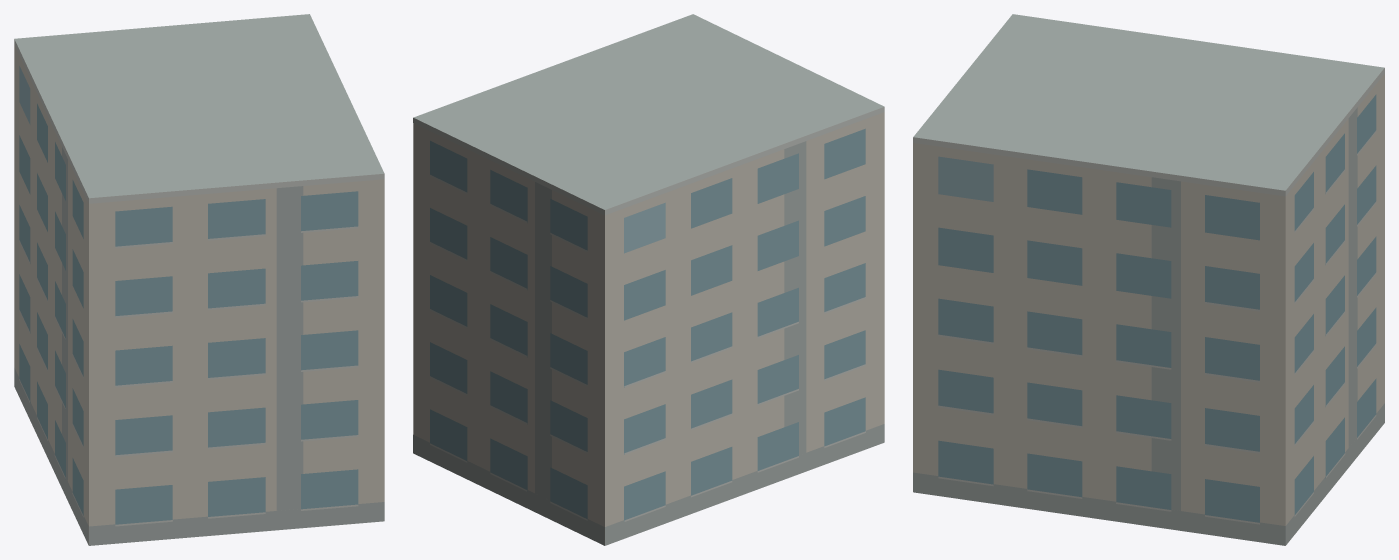
File: residential-5df0b1eb-18d3-4846-9c5b-f81344bb22b8.glb
The picture shows the model from 3 angles, left to right: view 1: azimuth 30°, elevation 25°; view 2: azimuth 150°, elevation 25°; view 3: azimuth 270°, elevation 25°; orthographic projection. The views are drawn at different scales.
Visible parts, largest first — view 1: residential-5df0b1eb-18d3-4846-9c5b-f81344bb22b8.tmp; view 2: residential-5df0b1eb-18d3-4846-9c5b-f81344bb22b8.tmp; view 3: residential-5df0b1eb-18d3-4846-9c5b-f81344bb22b8.tmp.
Part boxes in pixels (<box>): residential-5df0b1eb-18d3-4846-9c5b-f81344bb22b8.tmp: <box>14,14,384,545</box>; residential-5df0b1eb-18d3-4846-9c5b-f81344bb22b8.tmp: <box>413,14,884,545</box>; residential-5df0b1eb-18d3-4846-9c5b-f81344bb22b8.tmp: <box>913,14,1384,545</box>.
Bounding box in the file's own units: 16.29 × 15.25 × 18.37.
